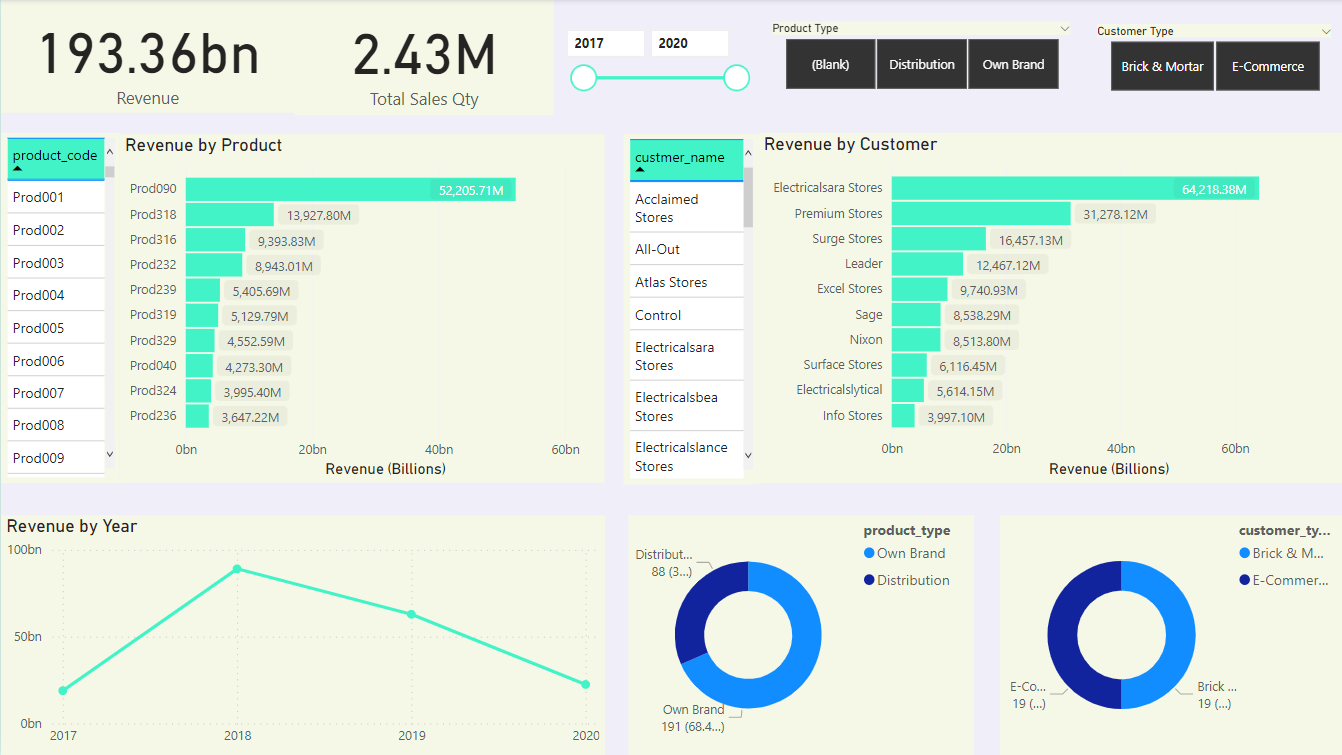

Layout of this report page (visuals, bound fields, positions):
{"tool":"powerbi","page":{"name":"Customer Insights","canvas":[1280,720],"ordinal":0},"visuals":[{"type":"card","fields":{"Values":["BaseMeasure.Revenue"]},"box":[0,1.2,279.7,107.1],"z":0},{"type":"card","fields":{"Values":["BaseMeasure.Total Sales Qty"]},"box":[279.7,1.2,246.3,109.5],"z":1000},{"type":"clusteredBarChart","title":"Revenue by Product","fields":{"Y":["BaseMeasure.Revenue"],"Category":["transactions.product_code"]},"box":[113.1,128.5,461.8,332],"z":2000},{"type":"slicer","fields":{"Values":["date.year"]},"box":[526,19,195.2,77.4],"z":3000},{"type":"tableEx","fields":{"Values":["products.product_code"]},"box":[0,127.3,113.1,333.2],"z":4000},{"type":"slicer","fields":{"Values":["customers.customer_type"]},"box":[1030.6,19,248.7,75],"z":5000},{"type":"lineChart","fields":{"Y":["BaseMeasure.Revenue"],"Category":["date.date.Variation.Date Hierarchy.Year","date.date.Variation.Date Hierarchy.Quarter","date.date.Variation.Date Hierarchy.Month","date.date.Variation.Date Hierarchy.Day"]},"box":[0,491.5,574.8,228.5],"z":6000},{"type":"slicer","fields":{"Values":["products.product_type"]},"box":[721.2,16.7,309.4,76.2],"z":7000},{"type":"donutChart","fields":{"Category":["products.product_type"],"Y":["CountNonNull(products.product_type)"]},"box":[597.4,491.5,328.5,228.5],"z":8000},{"type":"donutChart","fields":{"Category":["customers.customer_type"],"Y":["CountNonNull(customers.customer_type)"]},"box":[951,491.5,328.5,228.5],"z":9000},{"type":"clusteredBarChart","title":"Revenue by Customer","fields":{"Category":["customers.custmer_name"],"Y":["BaseMeasure.Revenue"]},"box":[721.2,127.3,559.3,333.2],"z":10000},{"type":"tableEx","fields":{"Values":["customers.custmer_name"]},"box":[592.7,128.5,128.5,333.2],"z":11000}]}

Visuals, with their boxes in screenshot pixels (x1, y1, x2, y2), scaled from the page's 1280x720 canvas onto the 1342x755 screenshot:
card - BaseMeasure.Revenue: {"left": 0, "top": 1, "right": 293, "bottom": 114}
card - BaseMeasure.Total Sales Qty: {"left": 293, "top": 1, "right": 551, "bottom": 116}
"Revenue by Product" clusteredBarChart: {"left": 119, "top": 135, "right": 603, "bottom": 483}
slicer - date.year: {"left": 551, "top": 20, "right": 756, "bottom": 101}
tableEx - products.product_code: {"left": 0, "top": 133, "right": 119, "bottom": 483}
slicer - customers.customer_type: {"left": 1081, "top": 20, "right": 1341, "bottom": 99}
lineChart - BaseMeasure.Revenue x date.date.Variation.Date Hierarchy.Year: {"left": 0, "top": 515, "right": 603, "bottom": 754}
slicer - products.product_type: {"left": 756, "top": 18, "right": 1081, "bottom": 97}
donutChart - products.product_type x CountNonNull(products.product_type): {"left": 626, "top": 515, "right": 971, "bottom": 754}
donutChart - customers.customer_type x CountNonNull(customers.customer_type): {"left": 997, "top": 515, "right": 1341, "bottom": 754}
"Revenue by Customer" clusteredBarChart: {"left": 756, "top": 133, "right": 1341, "bottom": 483}
tableEx - customers.custmer_name: {"left": 621, "top": 135, "right": 756, "bottom": 484}
